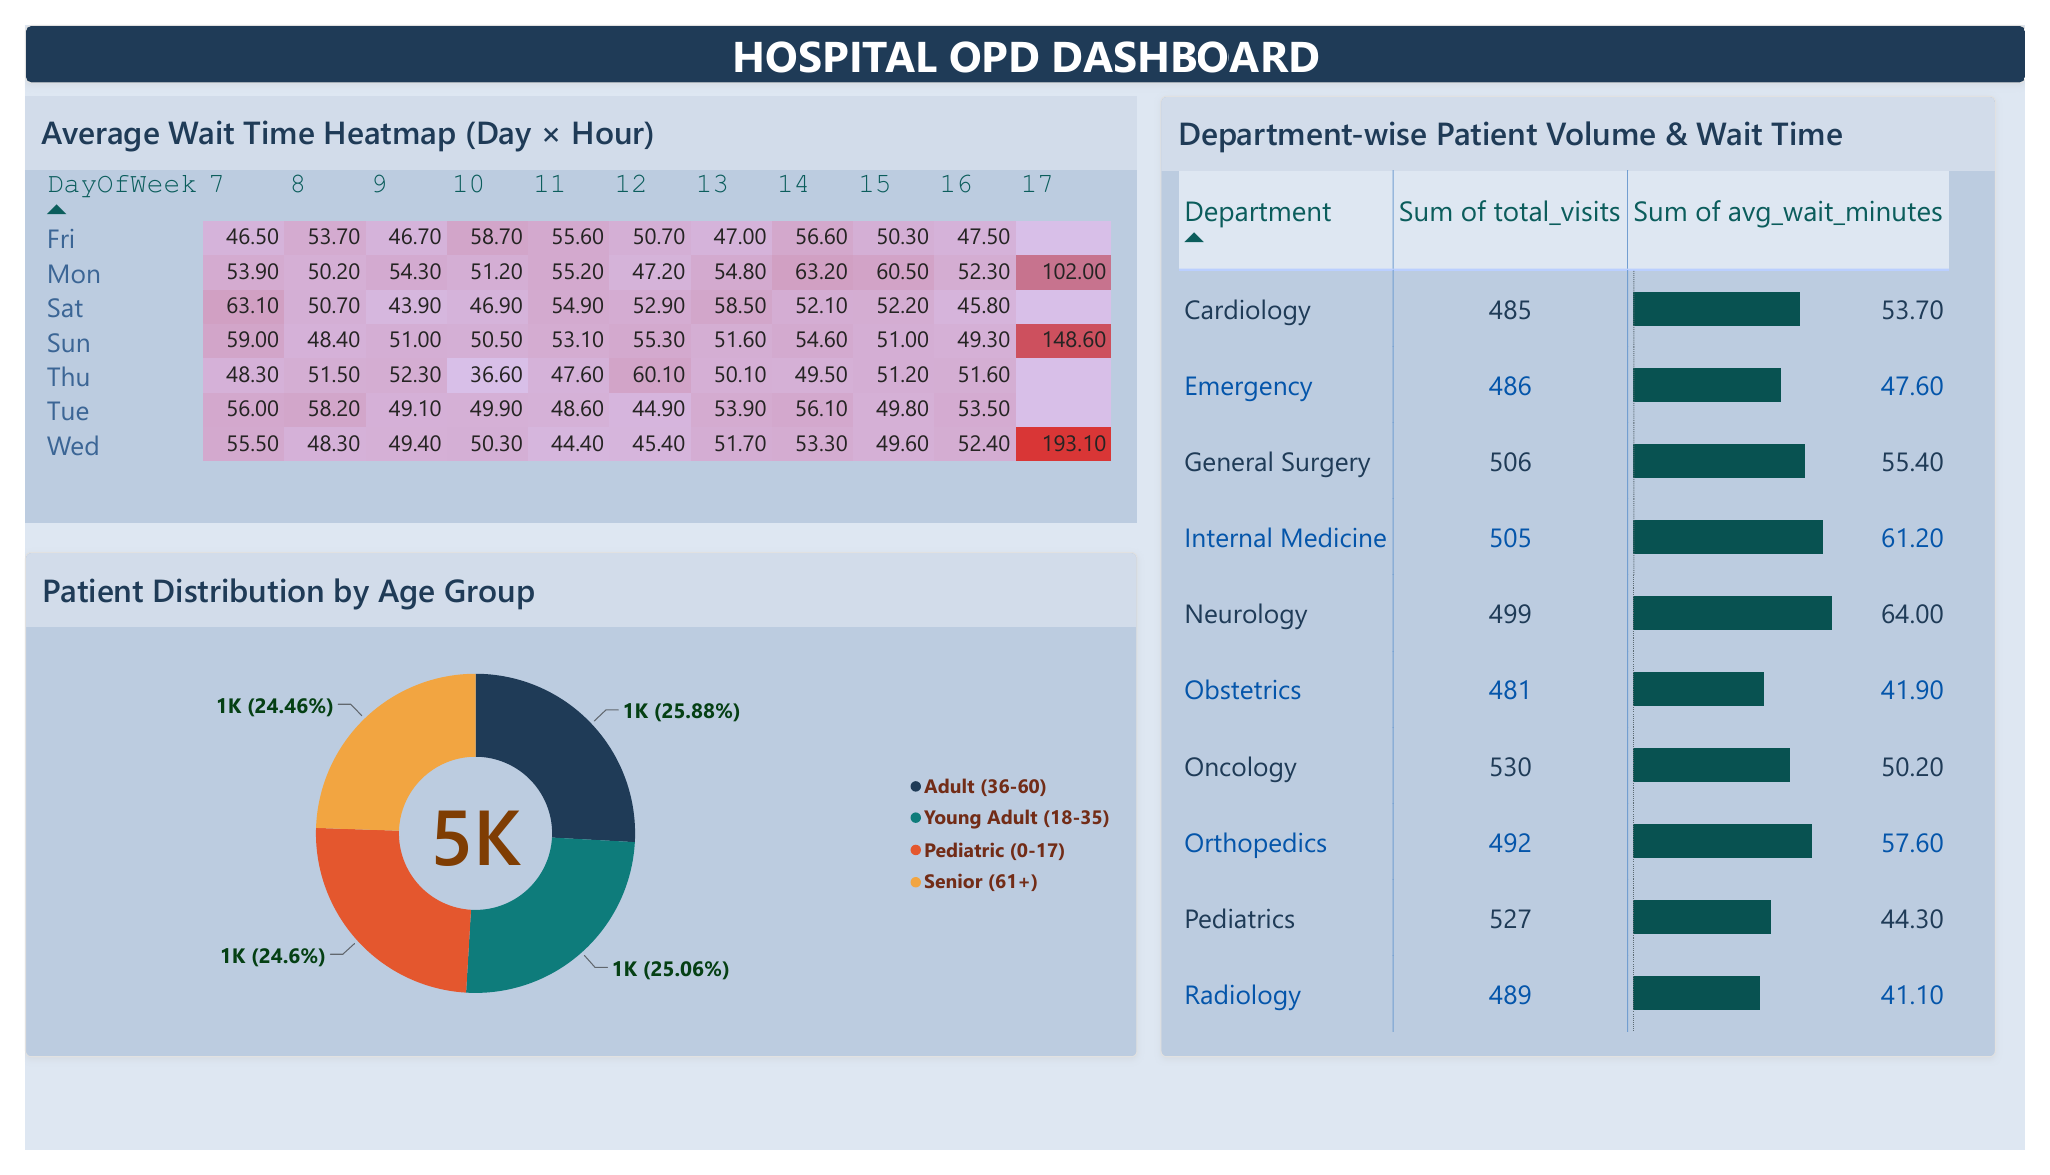

The dashboard page shown, as its layout file describes it:
{"tool":"powerbi","page":{"name":"OPD EXECUTIVE SUMMARY","canvas":[1920,1080],"ordinal":1},"visuals":[{"type":"textbox","title":"HOSPITAL OPD DASHBAORD","box":[0,0,1920.8,56.4],"z":0},{"type":"pivotTable","title":"Average Wait Time Heatmap (Day × Hour)","fields":{"Columns":["heatmap_data.ArrivalHour"],"Rows":["heatmap_data.DayOfWeek"],"Values":["Sum(heatmap_data.avg_wait_minutes)"]},"box":[0,68.4,1068,410.1],"z":1000},{"type":"donutChart","title":"Patient Distribution by Age Group","fields":{"Category":["agegroup_summary.AgeGroup"],"Y":["Sum(agegroup_summary.total_visits)"]},"box":[0,505.8,1068,485.3],"z":2000},{"type":"tableEx","title":"Department-wise Patient Volume & Wait Time","fields":{"Values":["department_summary.Department","Sum(department_summary.total_visits)","Sum(department_summary.avg_wait_minutes)"]},"box":[1090.3,68.4,801.5,922.8],"z":3000}]}

Visuals, with their boxes in screenshot pixels (x1, y1, x2, y2), scaled from the page's 1920x1080 canvas onto the 2050x1175 screenshot:
"HOSPITAL OPD DASHBAORD" textbox: rect(0, 0, 2049, 61)
"Average Wait Time Heatmap (Day × Hour)" pivotTable: rect(0, 74, 1140, 521)
"Patient Distribution by Age Group" donutChart: rect(0, 550, 1140, 1078)
"Department-wise Patient Volume & Wait Time" tableEx: rect(1164, 74, 2020, 1078)
